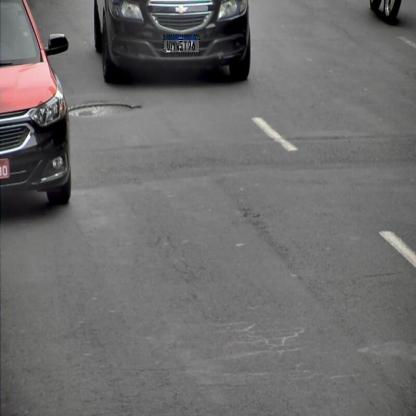PlacaM: (163, 35, 200, 53)
